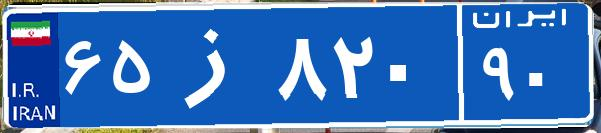0: (385, 28, 445, 110), (525, 38, 570, 115)
2: (330, 28, 385, 110)
5: (110, 28, 158, 105)
6: (57, 26, 110, 107)
8: (273, 28, 330, 110)
9: (475, 38, 525, 113)
ز: (158, 15, 273, 115)
